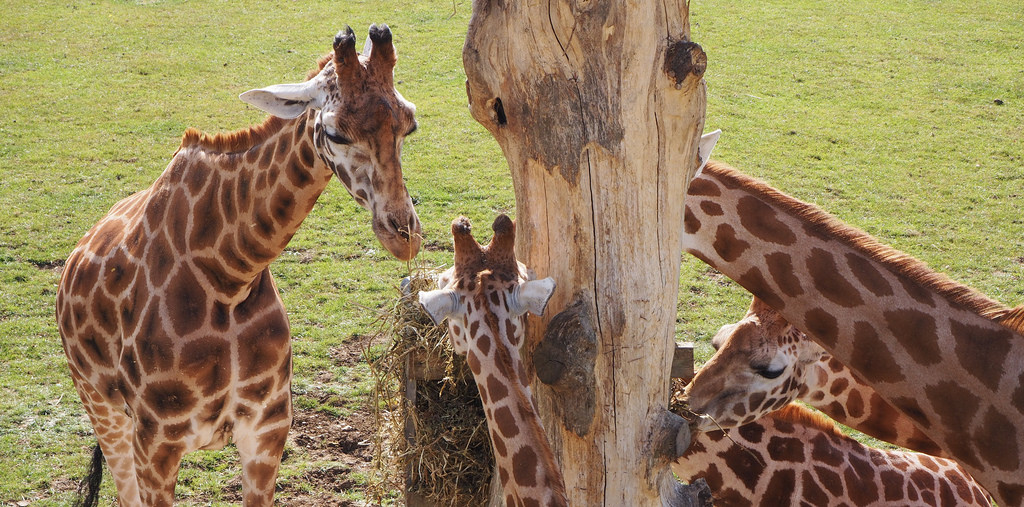giraffe: (54, 46, 450, 491), (634, 110, 993, 464), (417, 220, 595, 493), (654, 300, 879, 455)
